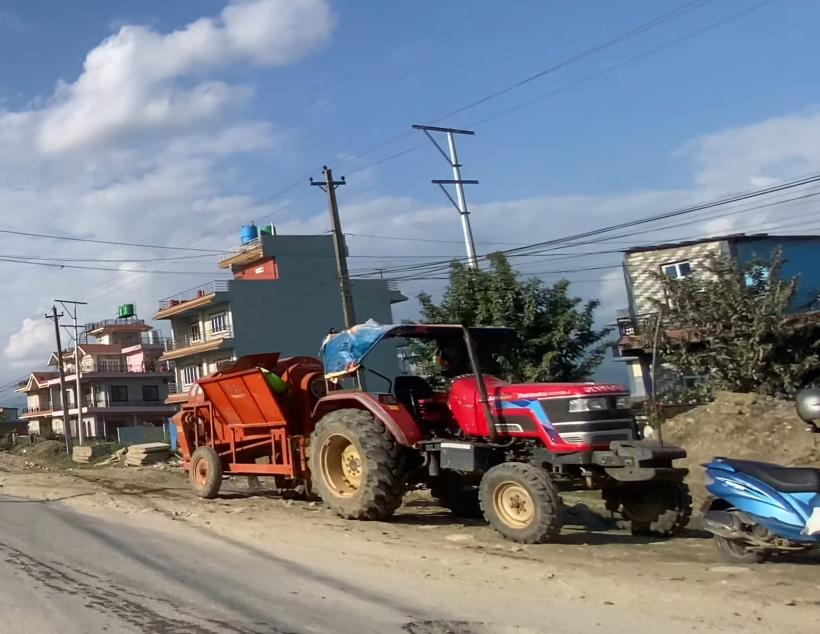scooter: (701, 410, 820, 568)
tractor: (308, 308, 705, 554)
